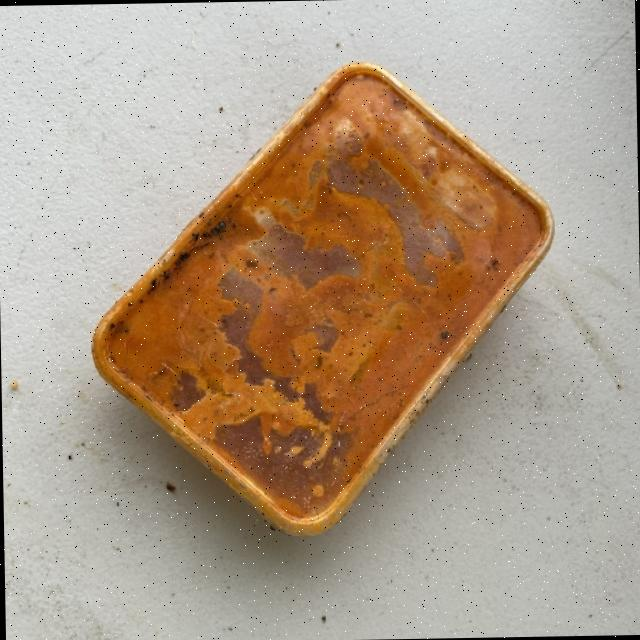plastic: (85, 56, 560, 539)
